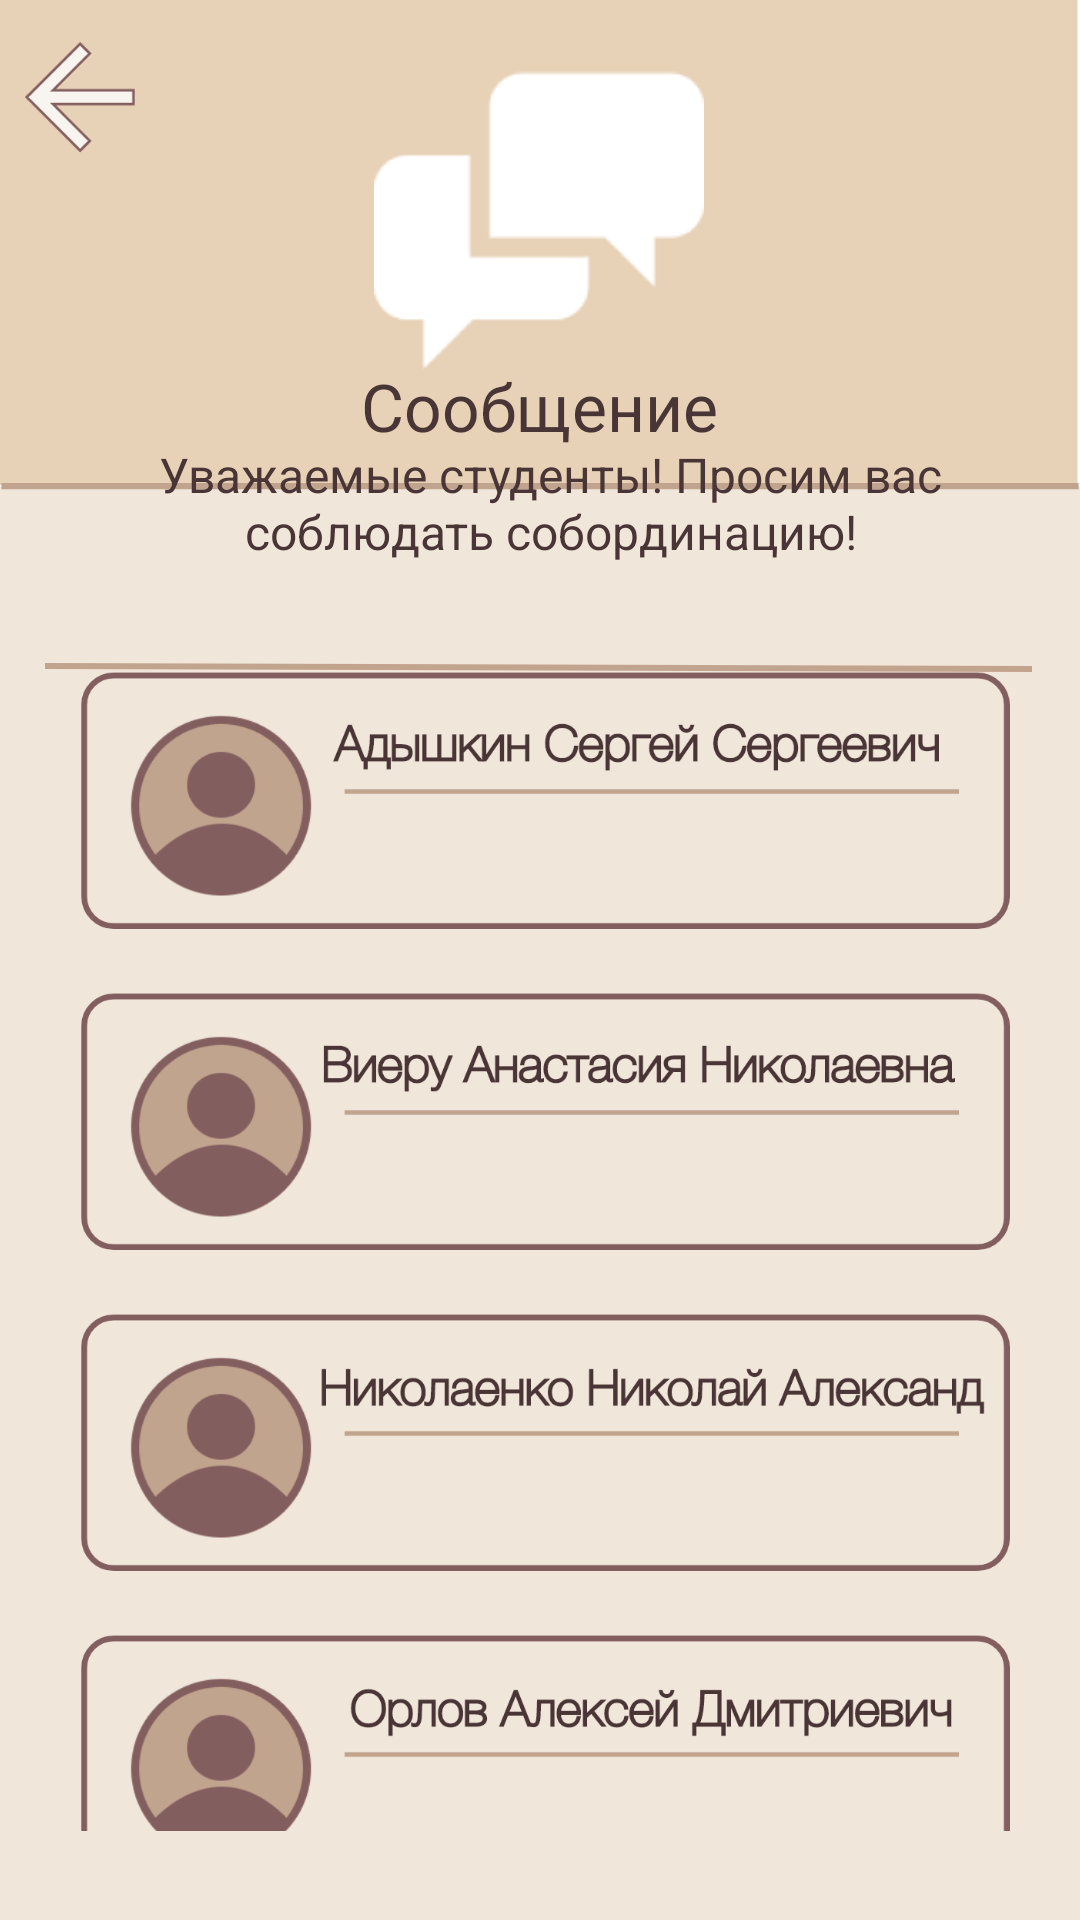

Screen size 1080 × 1920. Icon name, then its box in pixels as (x1, y1, x2, y2):
back: (25, 42, 135, 152)
